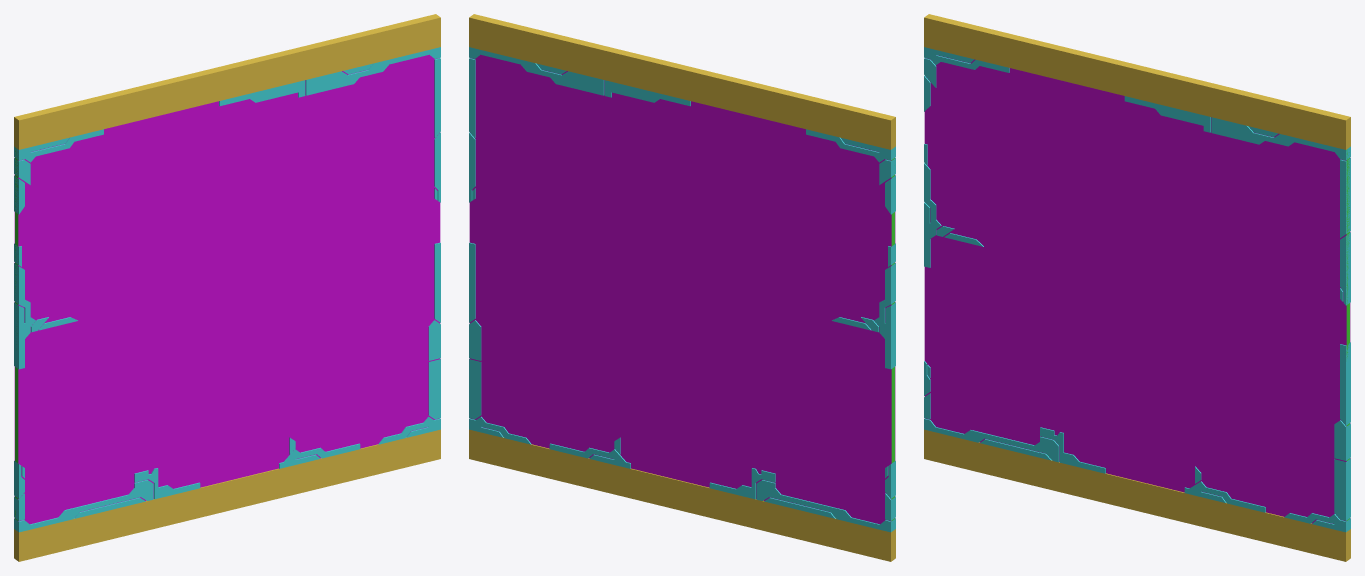
The model's file is Wall_51.fbx.
3 renders of one model, left to right at view 1: azimuth 30°, elevation 25°; view 2: azimuth 150°, elevation 25°; view 3: azimuth 330°, elevation 25°, orthographic.
Visible parts, largest first — view 1: Wall_51_Pattern_A, Wall_51; view 2: Wall_51_Pattern_A, Wall_51; view 3: Wall_51_Pattern_A, Wall_51.
Boxes of the visible parts, x1=… form: Wall_51_Pattern_A: x1=14, y1=54, x2=440, y2=524; Wall_51: x1=14, y1=14, x2=440, y2=561; Wall_51_Pattern_A: x1=469, y1=54, x2=895, y2=524; Wall_51: x1=469, y1=14, x2=895, y2=561; Wall_51_Pattern_A: x1=924, y1=55, x2=1350, y2=523; Wall_51: x1=924, y1=14, x2=1350, y2=561.
Bounding box in the file's own units: 457 × 457 × 9.14.
